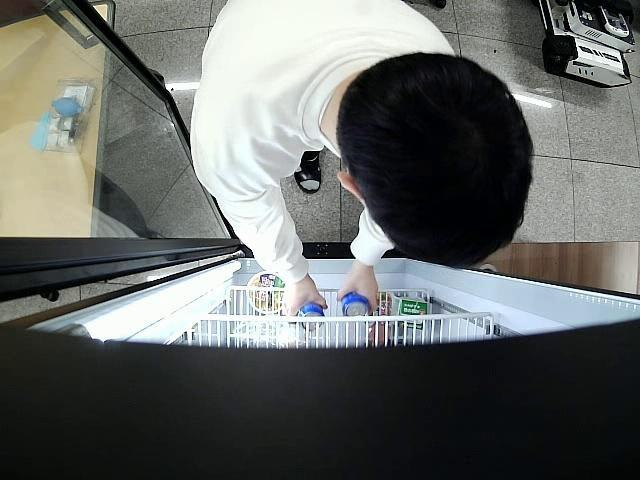13_pocariSweat: (298, 301, 324, 332), (344, 293, 371, 316)
